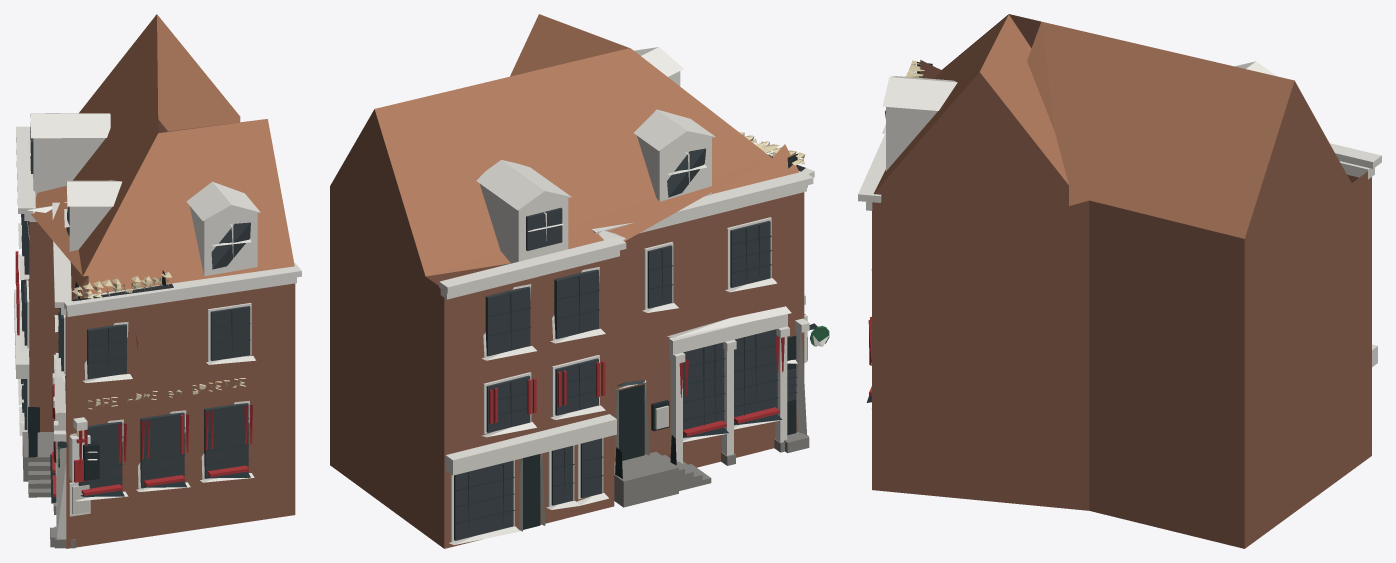
The model's file is hans-en-grietje-spiegelgracht.lod1.glb.
3 views of the same model, side by side, from view 1: azimuth 30°, elevation 25°; view 2: azimuth 150°, elevation 25°; view 3: azimuth 270°, elevation 25° (orthographic). The views are drawn at different scales.
Visible parts, largest first — view 1: hans-en-grietje-spiegelgracht; view 2: hans-en-grietje-spiegelgracht; view 3: hans-en-grietje-spiegelgracht.
Part boxes in pixels (x1,y1,x2,y2): hans-en-grietje-spiegelgracht: (14, 14, 301, 548); hans-en-grietje-spiegelgracht: (330, 14, 829, 548); hans-en-grietje-spiegelgracht: (858, 14, 1381, 548).
Size of the model in its own units: 11.89 by 12.69 by 13.95.
